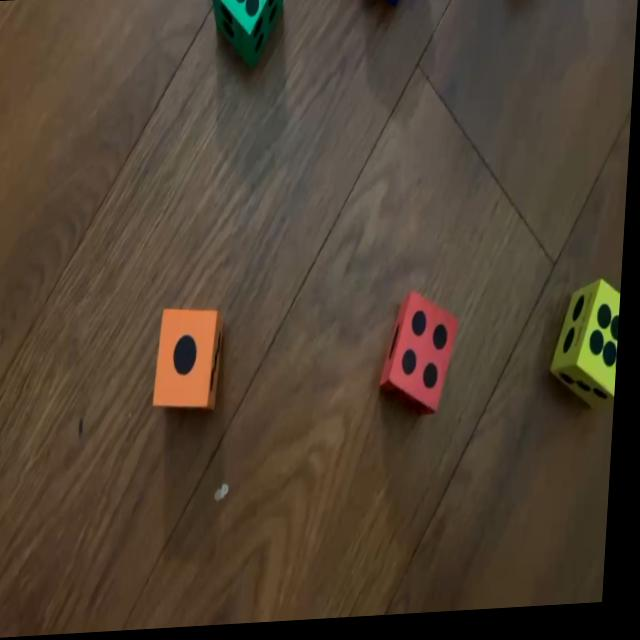cube: (383, 294, 462, 422), (207, 0, 282, 67)
